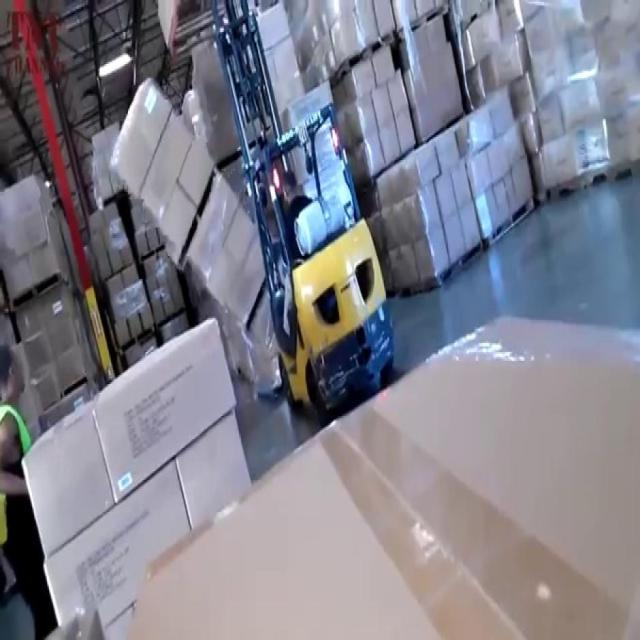forklift: (203, 0, 401, 409)
person: (266, 158, 326, 268)
